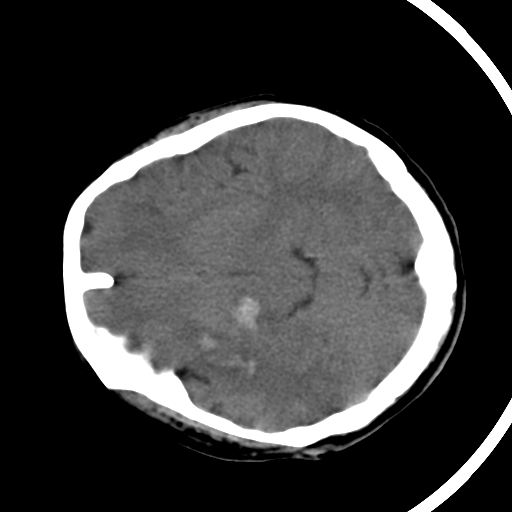a: (179, 277, 275, 392)
